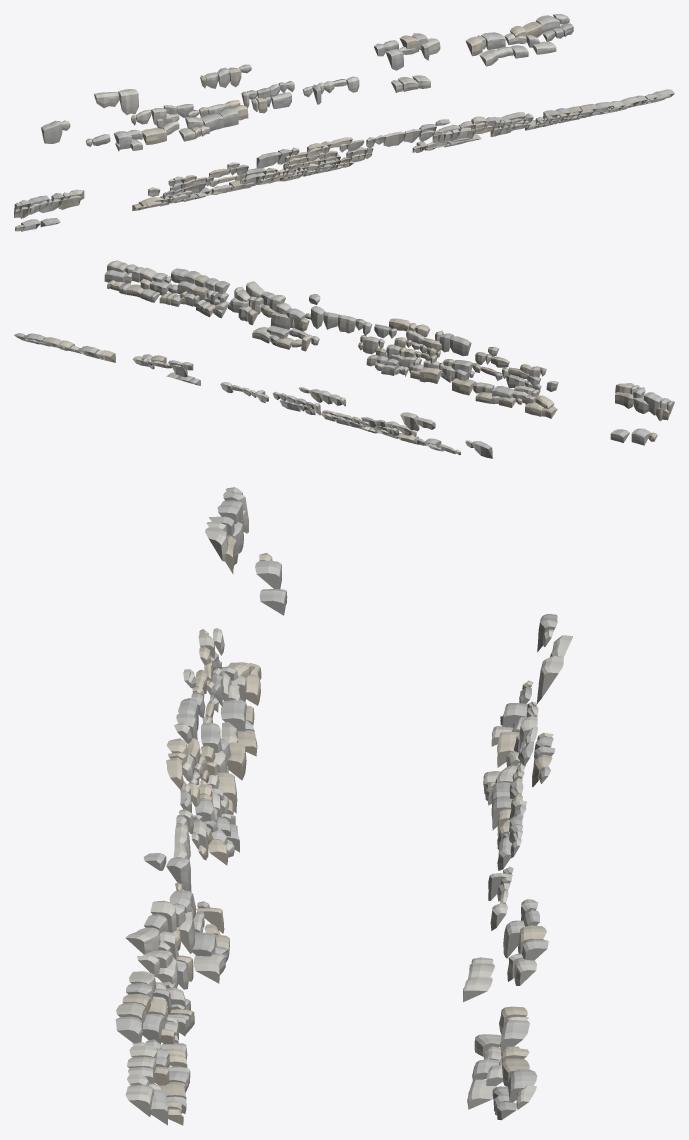
The model's file is SM_BM_BC_GorgeStrata_2.glb.
3 renders of one model, top to bottom at view 1: azimuth 30°, elevation 25°; view 2: azimuth 150°, elevation 25°; view 3: azimuth 270°, elevation 25°, orthographic. The views are drawn at different scales.
Parts seen in each view (by area): view 1: SM_BM_BC_GorgeStrata_2; view 2: SM_BM_BC_GorgeStrata_2; view 3: SM_BM_BC_GorgeStrata_2.
Boxes of the visible parts, left/top/right/bottom form: SM_BM_BC_GorgeStrata_2: left=14, top=14, right=674, bottom=231; SM_BM_BC_GorgeStrata_2: left=14, top=260, right=674, bottom=458; SM_BM_BC_GorgeStrata_2: left=115, top=487, right=572, bottom=1125.
Bounding box in the file's own units: 163 × 11.98 × 55.16.
